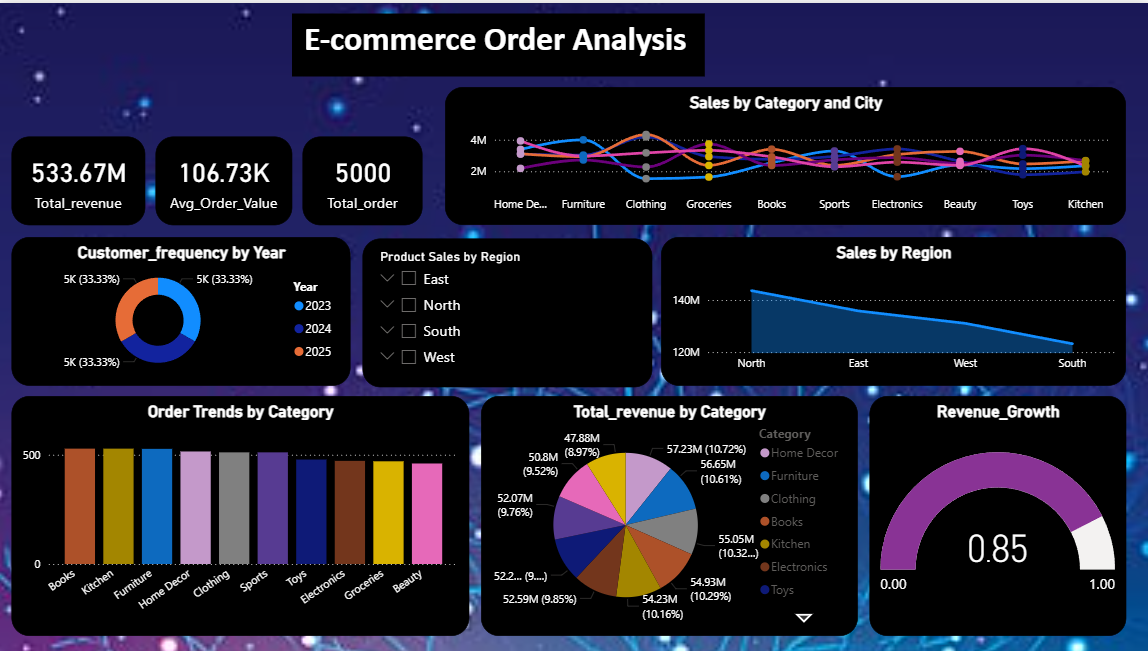

What the dashboard file says about the page in this screenshot:
{"tool":"powerbi","page":{"name":"Page 1","canvas":[1280,720],"ordinal":0},"visuals":[{"type":"columnChart","title":"Order Trends by Category","fields":{"Y":["Ecommerce_Sales_Data_2024_2025.order_trends"],"Category":["Ecommerce_Sales_Data_2024_2025.Category"]},"box":[15,436.7,508.3,266.7],"z":0},{"type":"gauge","fields":{"Y":["Ecommerce_Sales_Data_2024_2025.Revenue_Growth"]},"box":[968.3,436.7,285,266.7],"z":1},{"type":"card","fields":{"Values":["Ecommerce_Sales_Data_2024_2025.Total_order"]},"box":[338.3,148.3,133.3,98.3],"z":2},{"type":"card","fields":{"Values":["Ecommerce_Sales_Data_2024_2025.Total_revenue"]},"box":[15,148.3,148.3,98.3],"z":3},{"type":"card","fields":{"Values":["Ecommerce_Sales_Data_2024_2025.Avg_Order_Value"]},"box":[175,148.3,151.7,98.3],"z":4},{"type":"pieChart","fields":{"Category":["Ecommerce_Sales_Data_2024_2025.Category"],"Y":["Ecommerce_Sales_Data_2024_2025.Total_revenue"]},"box":[536.7,436.7,418.3,266.7],"z":5},{"type":"stackedAreaChart","title":" Sales by Region","fields":{"Y":["Sum(Ecommerce_Sales_Data_2024_2025.Sales)"],"Category":["Ecommerce_Sales_Data_2024_2025.Region"]},"box":[736.7,260,516.7,165],"z":6},{"type":"slicer","fields":{"Values":["Ecommerce_Sales_Data_2024_2025.Region","Ecommerce_Sales_Data_2024_2025.Product Name","Ecommerce_Sales_Data_2024_2025.Quantity"]},"box":[405,261.7,321.7,165],"z":7},{"type":"donutChart","fields":{"Y":["Ecommerce_Sales_Data_2024_2025.Customer_frequency"],"Category":["Ecommerce_Sales_Data_2024_2025.Order Date.Variation.Date Hierarchy.Year","Ecommerce_Sales_Data_2024_2025.Order Date.Variation.Date Hierarchy.Quarter","Ecommerce_Sales_Data_2024_2025.Order Date.Variation.Date Hierarchy.Month","Ecommerce_Sales_Data_2024_2025.Order Date.Variation.Date Hierarchy.Day"]},"box":[15,260,376.7,165],"z":8},{"type":"lineChart","title":"Sales by Category and City","fields":{"Category":["Ecommerce_Sales_Data_2024_2025.Category"],"Series":["Ecommerce_Sales_Data_2024_2025.City"],"Y":["Sum(Ecommerce_Sales_Data_2024_2025.Sales)"]},"box":[496.7,93.3,756.7,153.3],"z":9},{"type":"textbox","box":[326.7,11.7,458.3,70],"z":10}]}

Visuals, with their boxes in screenshot pixels (x1, y1, x2, y2), scaled from the page's 1280x720 canvas onto the 1148x651 screenshot:
"Order Trends by Category" columnChart: Rect(13, 395, 469, 636)
gauge - Ecommerce_Sales_Data_2024_2025.Revenue_Growth: Rect(868, 395, 1124, 636)
card - Ecommerce_Sales_Data_2024_2025.Total_order: Rect(303, 134, 423, 223)
card - Ecommerce_Sales_Data_2024_2025.Total_revenue: Rect(13, 134, 146, 223)
card - Ecommerce_Sales_Data_2024_2025.Avg_Order_Value: Rect(157, 134, 293, 223)
pieChart - Ecommerce_Sales_Data_2024_2025.Category x Ecommerce_Sales_Data_2024_2025.Total_revenue: Rect(481, 395, 857, 636)
" Sales by Region" stackedAreaChart: Rect(661, 235, 1124, 384)
slicer - Ecommerce_Sales_Data_2024_2025.Region x Ecommerce_Sales_Data_2024_2025.Product Name: Rect(363, 237, 652, 386)
donutChart - Ecommerce_Sales_Data_2024_2025.Customer_frequency x Ecommerce_Sales_Data_2024_2025.Order Date.Variation.Date Hierarchy.Year: Rect(13, 235, 351, 384)
"Sales by Category and City" lineChart: Rect(445, 84, 1124, 223)
textbox: Rect(293, 11, 704, 74)
